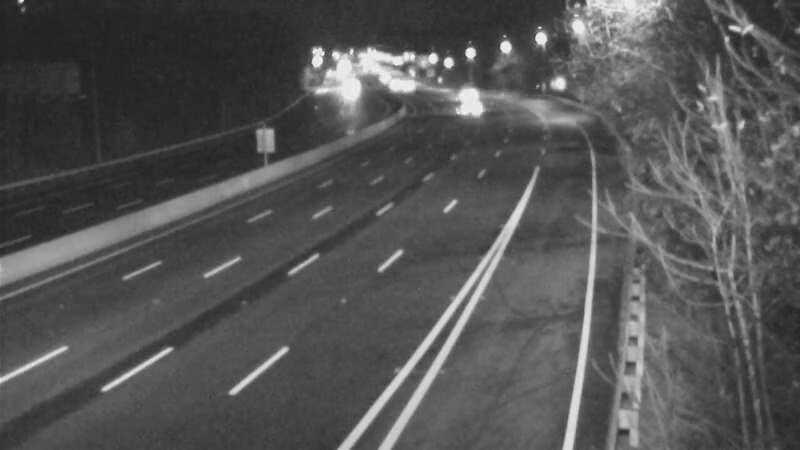vehicle: (367, 61, 417, 111), (444, 71, 494, 121), (448, 80, 498, 130), (324, 68, 374, 118)
